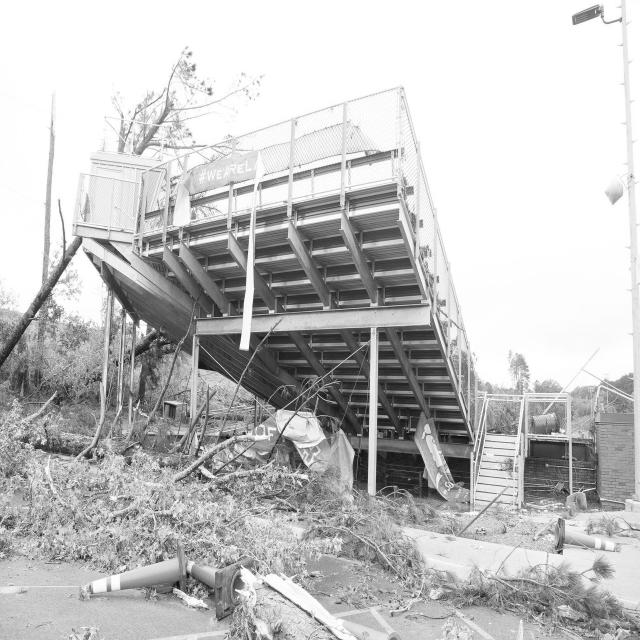Severely_Damaged: (71, 75, 477, 521)
